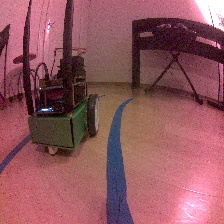rob: (26, 54, 101, 155)
